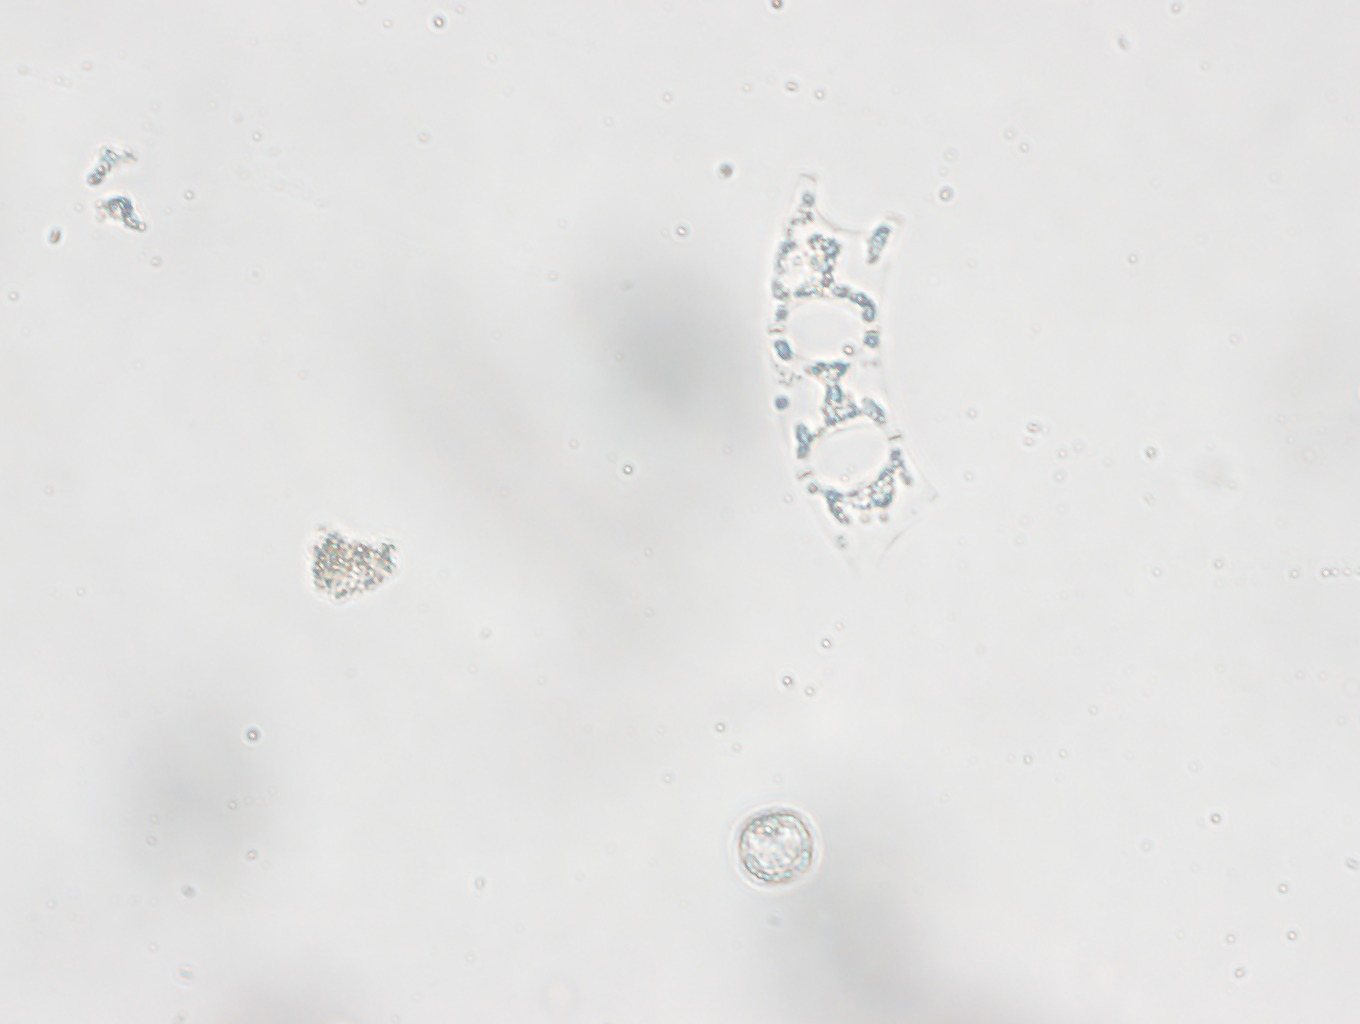thalassionema frauenfeldii: (751, 163, 953, 575)
